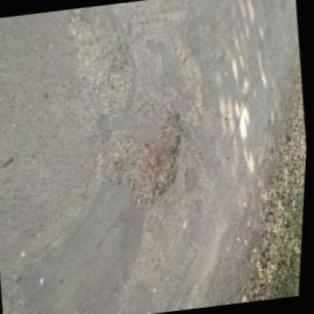Hueco: (121, 111, 194, 208)
